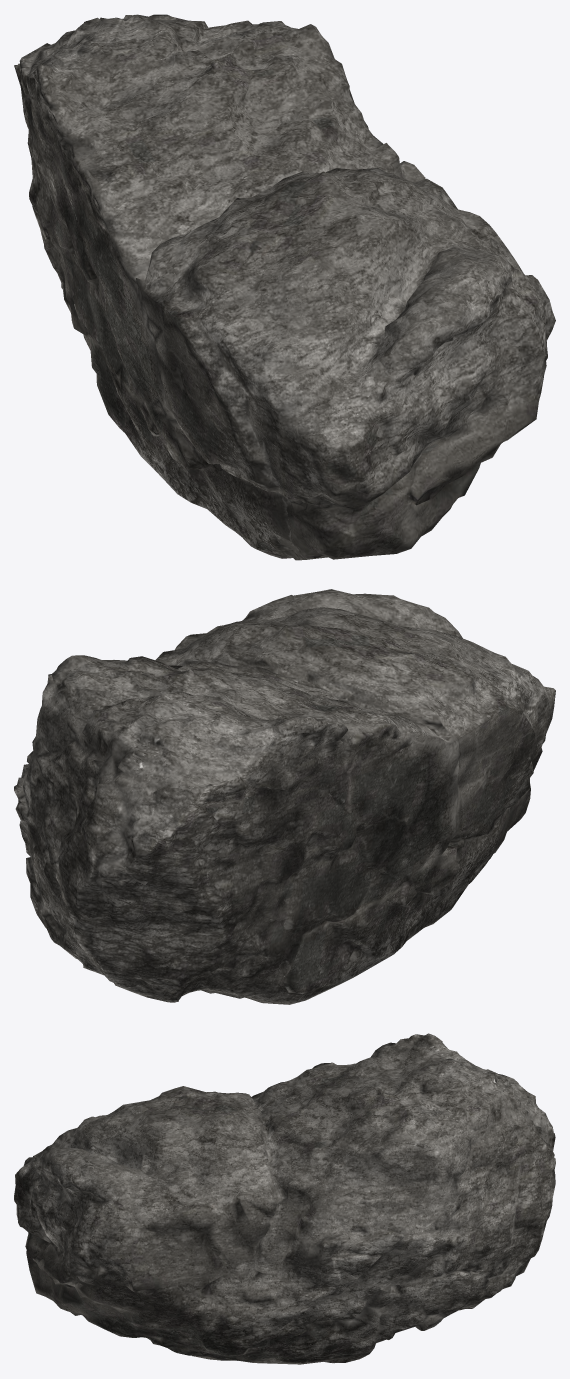
The model's file is dark_boulder_06.glb.
The picture shows the model from 3 angles, top to bottom: view 1: azimuth 30°, elevation 25°; view 2: azimuth 150°, elevation 25°; view 3: azimuth 270°, elevation 25°; orthographic projection. The views are drawn at different scales.
Parts seen in each view (by area): view 1: namaqualand_boulder_06; view 2: namaqualand_boulder_06; view 3: namaqualand_boulder_06.
Part boxes in pixels (x1,y1,x2,y2): namaqualand_boulder_06: [14, 14, 555, 560]; namaqualand_boulder_06: [14, 589, 555, 1004]; namaqualand_boulder_06: [14, 1033, 555, 1364].
Bounding box in the file's own units: 0.6724 × 0.6494 × 1.21.
1 material, 1 textured.
